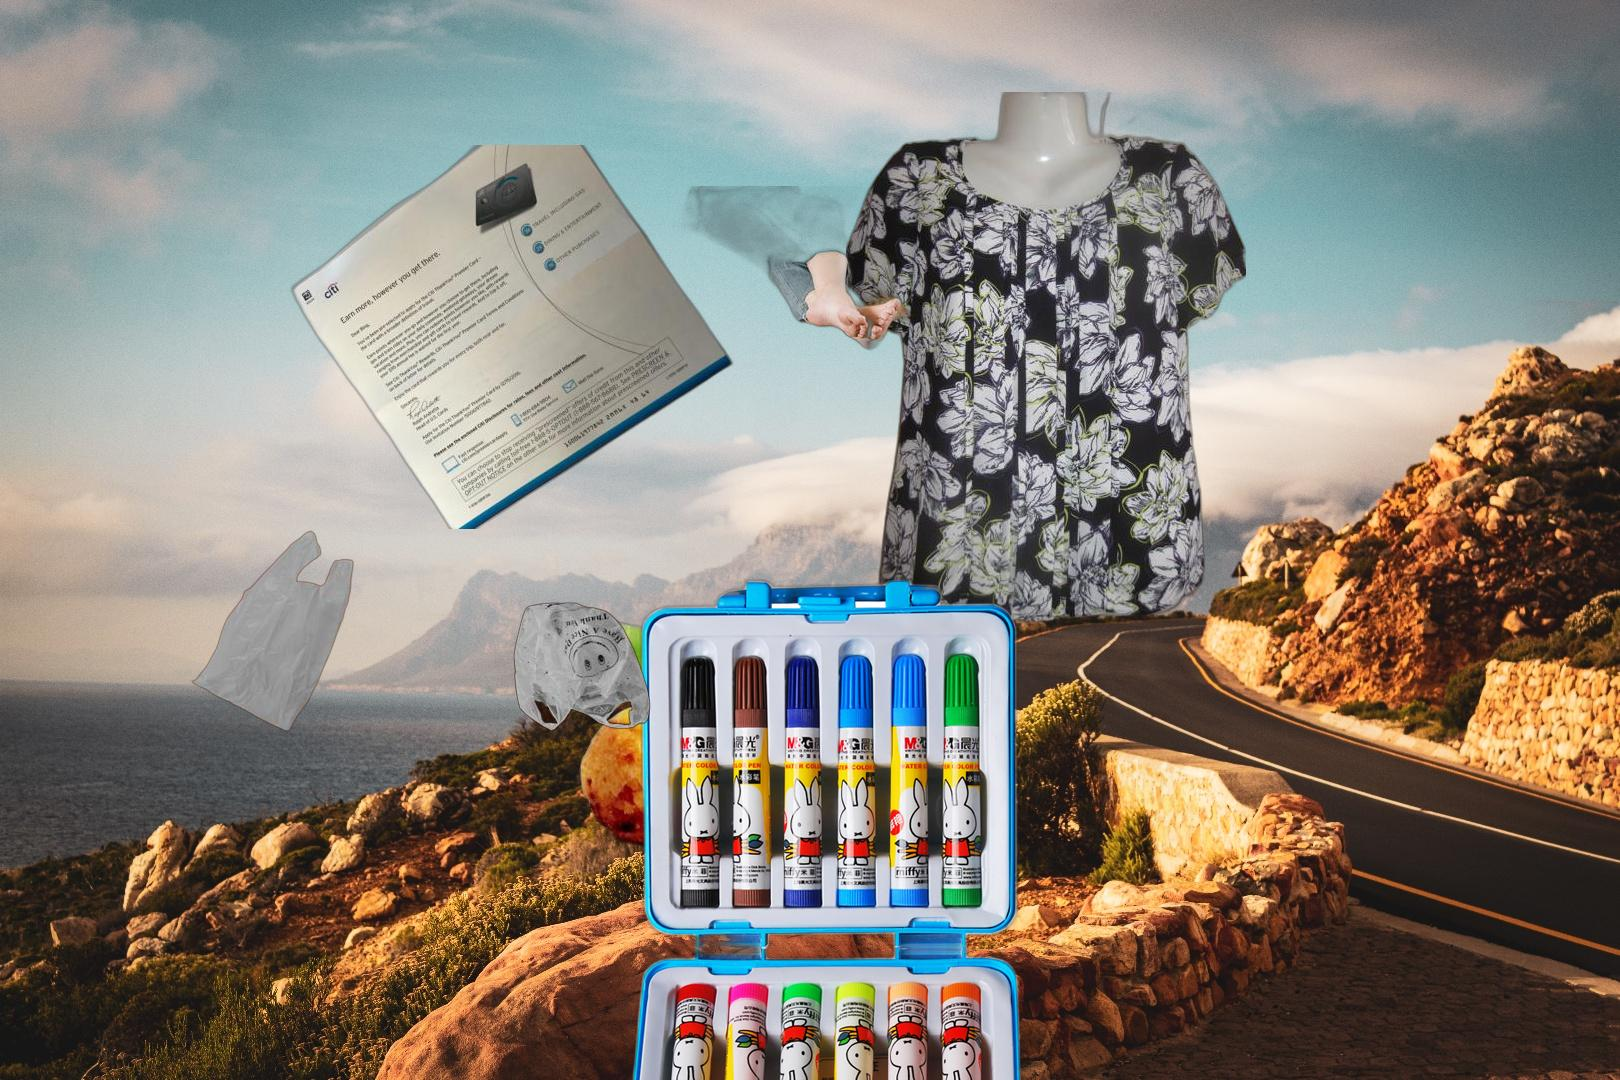biological: (579, 604, 972, 921)
clothes: (846, 92, 1246, 626)
paper: (288, 145, 736, 529)
penholder: (444, 554, 1193, 1080)
plastic-bag: (413, 564, 653, 733), (190, 529, 356, 734)
trashbox-cardboard: (629, 186, 1062, 520)
